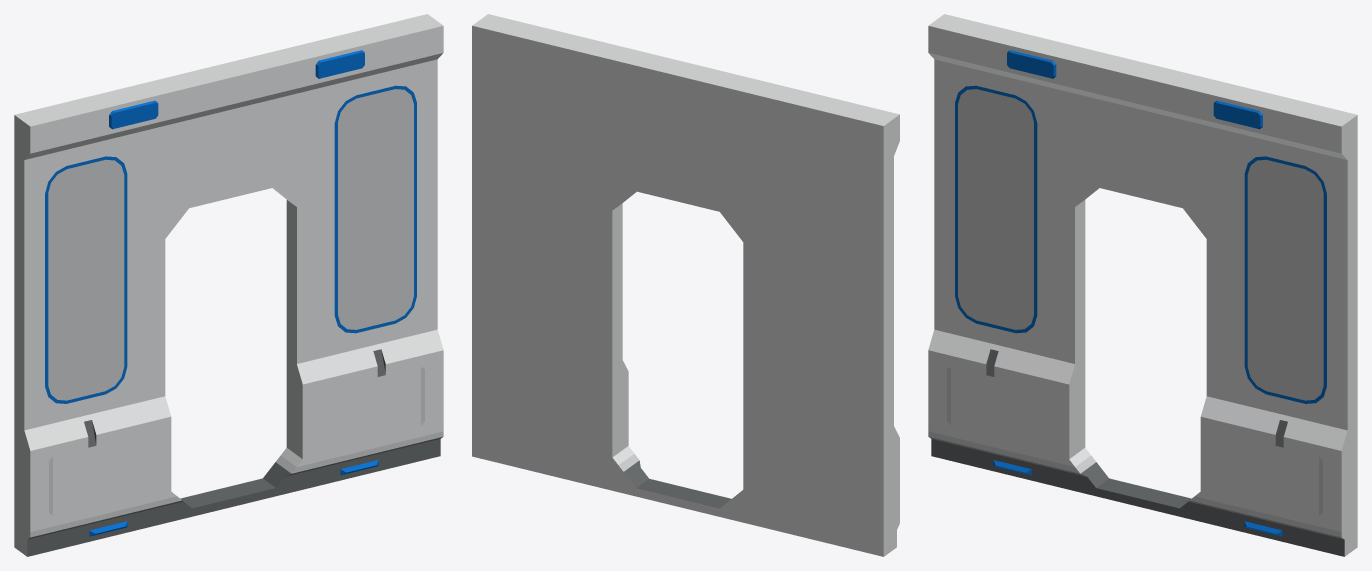
Rendered from Wall_type_A_053.fbx.
The picture shows the model from 3 angles, left to right: view 1: azimuth 30°, elevation 25°; view 2: azimuth 150°, elevation 25°; view 3: azimuth 330°, elevation 25°; orthographic projection.
Visible parts, largest first — view 1: Wall_type_A_053; view 2: Wall_type_A_053; view 3: Wall_type_A_053.
Part boxes in pixels (bbox=[...]): Wall_type_A_053: bbox=[14, 14, 443, 556]; Wall_type_A_053: bbox=[472, 14, 899, 556]; Wall_type_A_053: bbox=[928, 14, 1357, 556].
Bounding box in the file's own units: 400 × 28.98 × 400.
